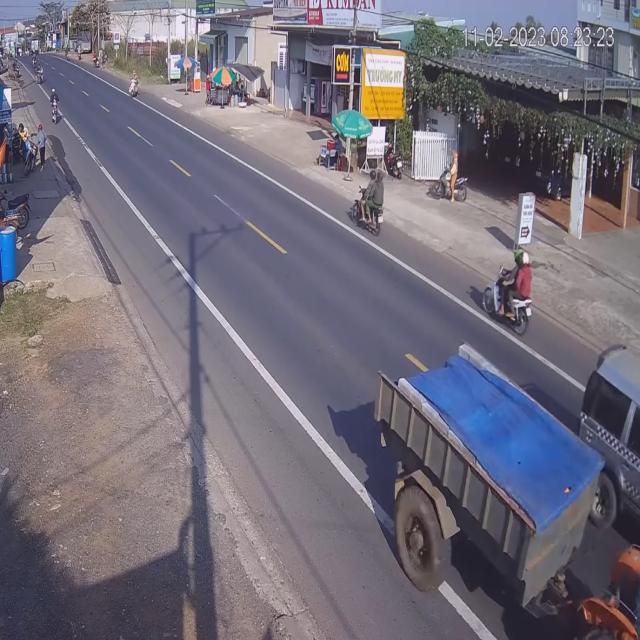car: (586, 338, 640, 510)
motorbike: (479, 247, 532, 334), (349, 180, 384, 236), (49, 88, 59, 127), (130, 69, 137, 96)
